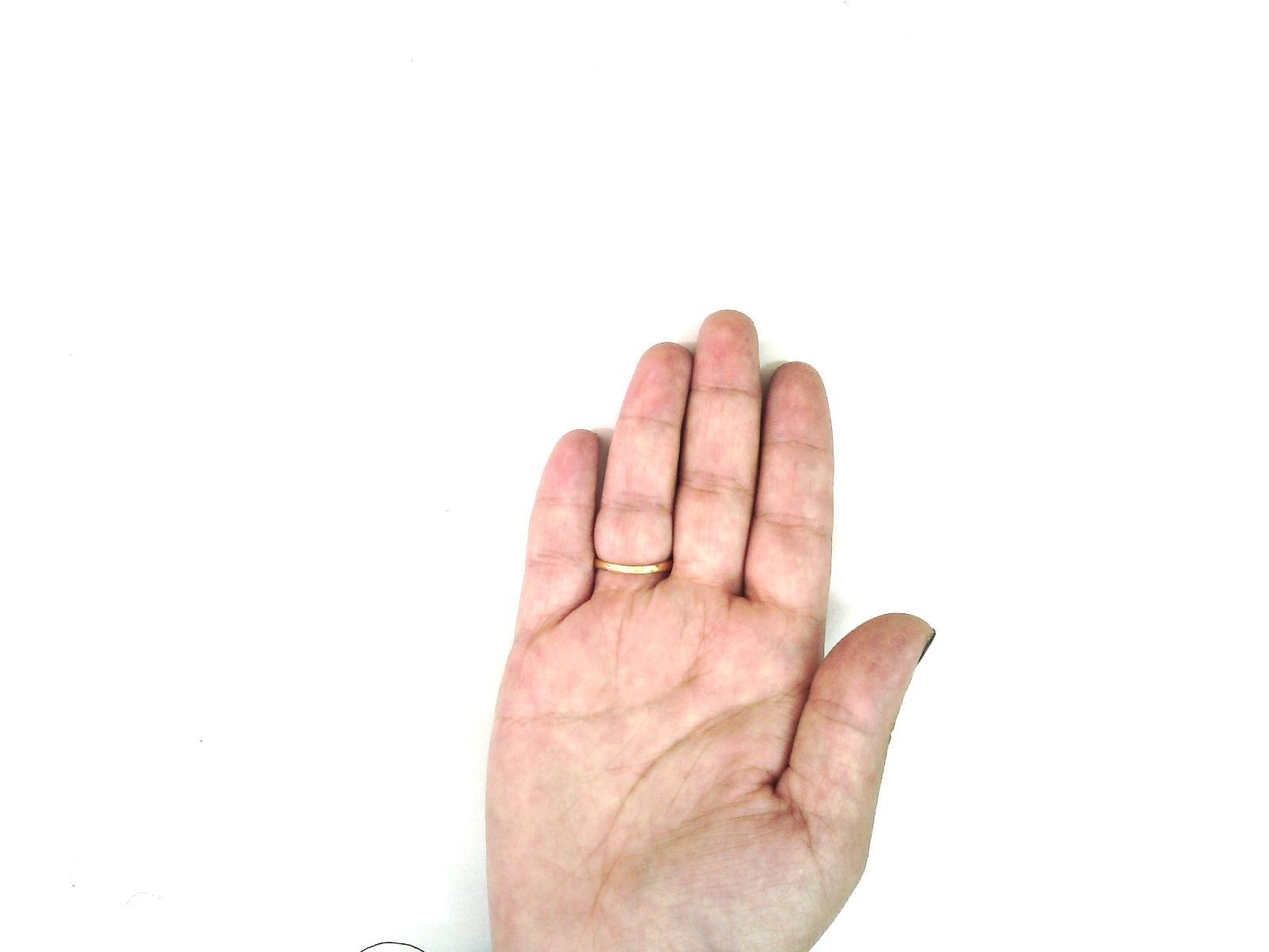open_palm: (481, 309, 938, 951)
